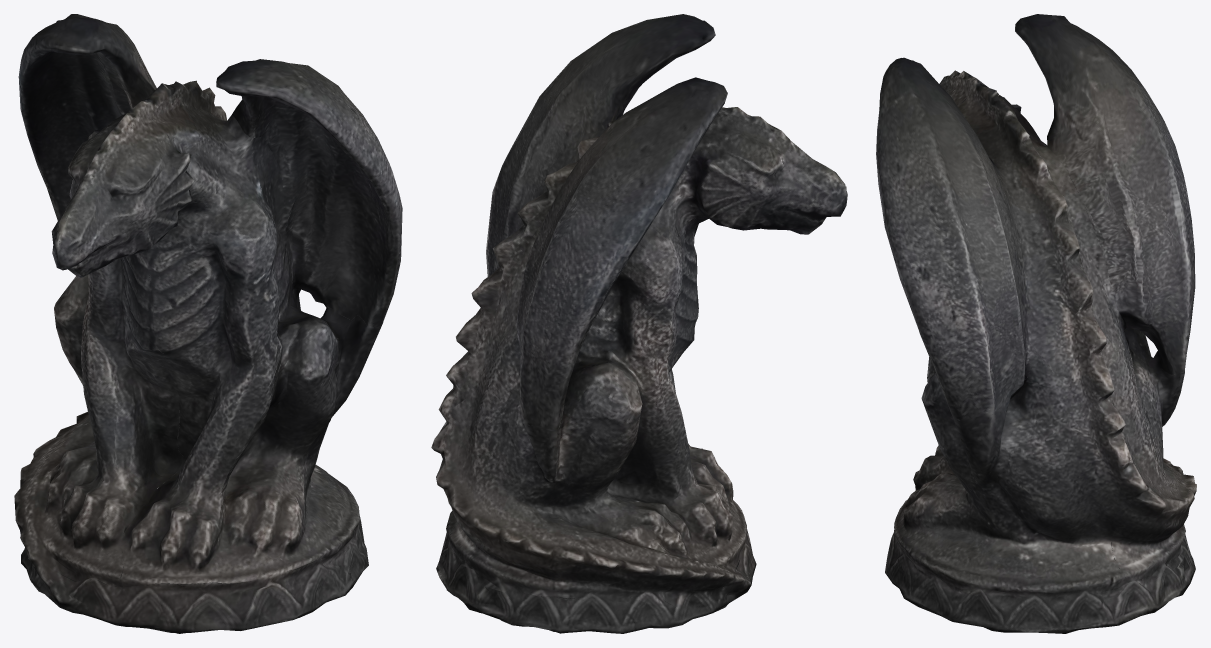
Rendered from gargoyle_stone.glb.
3 renders of one model, left to right at view 1: azimuth 30°, elevation 25°; view 2: azimuth 150°, elevation 25°; view 3: azimuth 270°, elevation 25°, orthographic. The views are drawn at different scales.
Parts seen in each view (by area): view 1: defaultMaterial; view 2: defaultMaterial; view 3: defaultMaterial.
Boxes of the visible parts, x1=… form: defaultMaterial: x1=14, y1=14, x2=402, y2=633; defaultMaterial: x1=431, y1=14, x2=847, y2=633; defaultMaterial: x1=876, y1=14, x2=1196, y2=633.
Size of the model in its own units: 24.17 by 36.5 by 21.03.
1 material, 1 textured.
